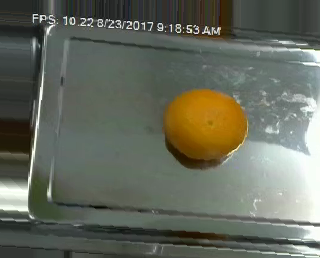Orange: (163, 87, 248, 159)
